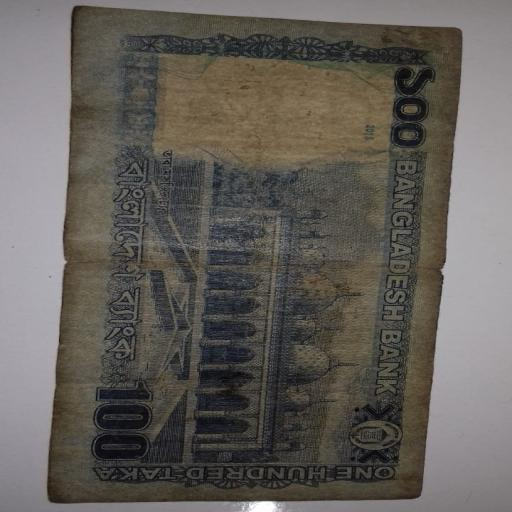100taka: (66, 5, 458, 501)
